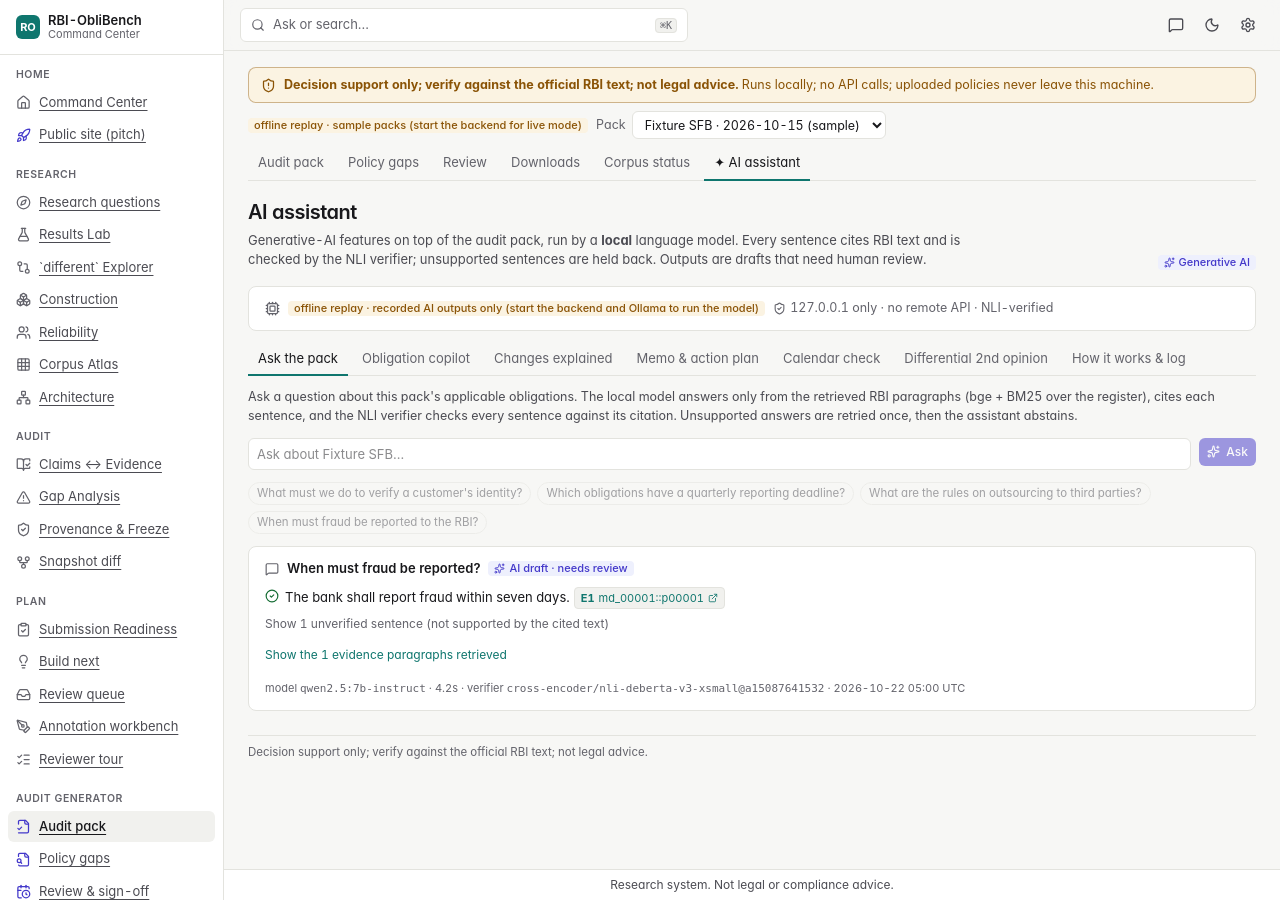
AI assistant tab › is a separate tab in the audit generator and replays recorded outputs offline
Expected: the text "recorded AI outputs only" is shown, [294,301,759,315]
Expected: the text "When must fraud be reported?" is shown, [287,559,480,578]
Step 1. Click the button "Show 1 unverified sentence (not supported by the cited text)" → (437, 624), box [265,615,609,633]
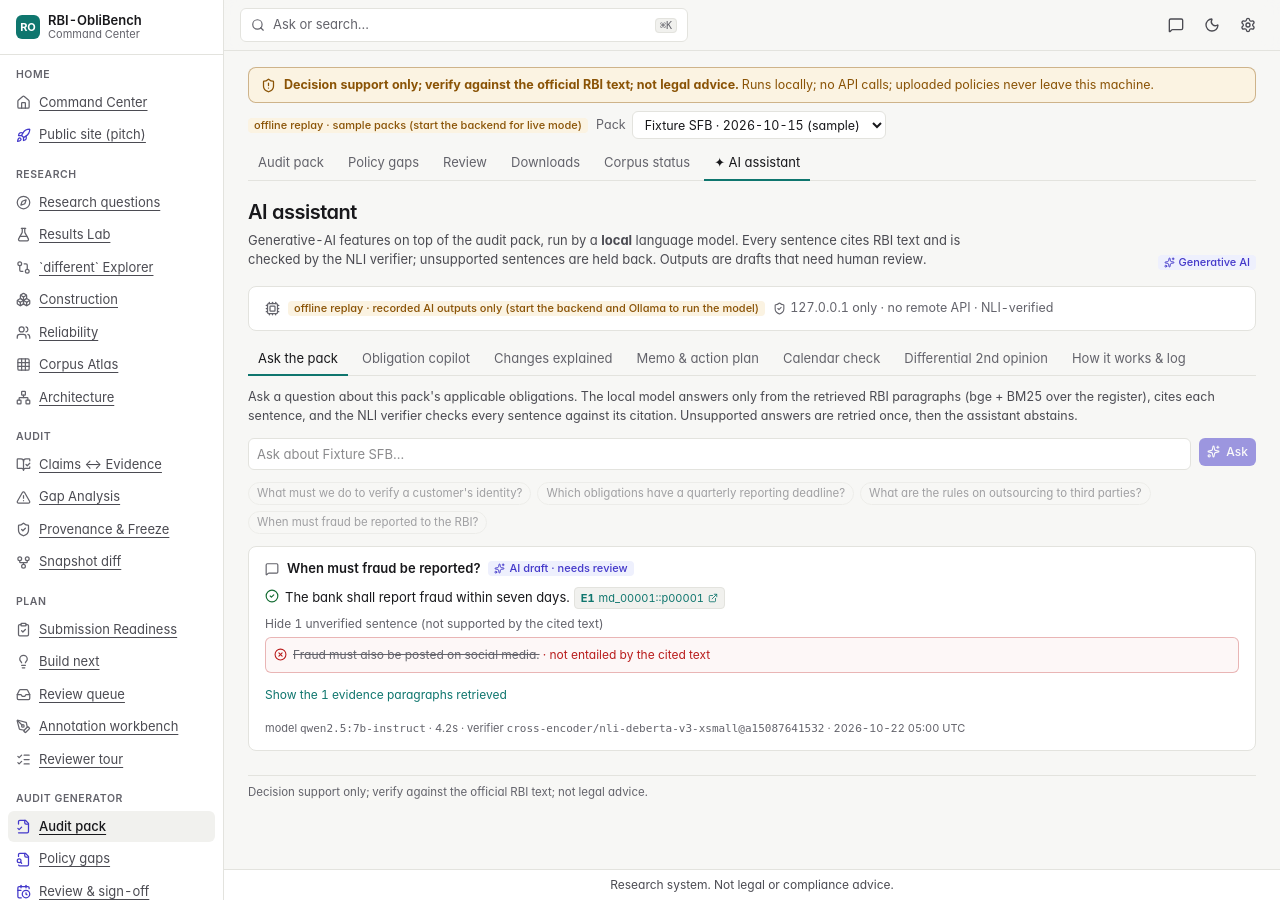
Expected: the button "Ask" is disabled, [1199,438,1256,466]
Expected: the text "Fraud must also be posted on social media." is shown, [293,647,540,662]
